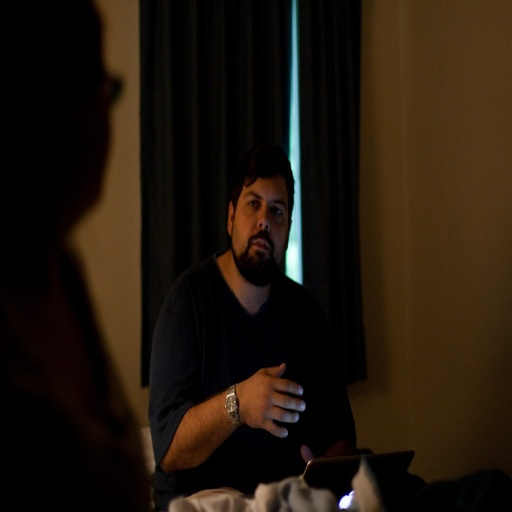hand: (219, 361, 306, 447)
